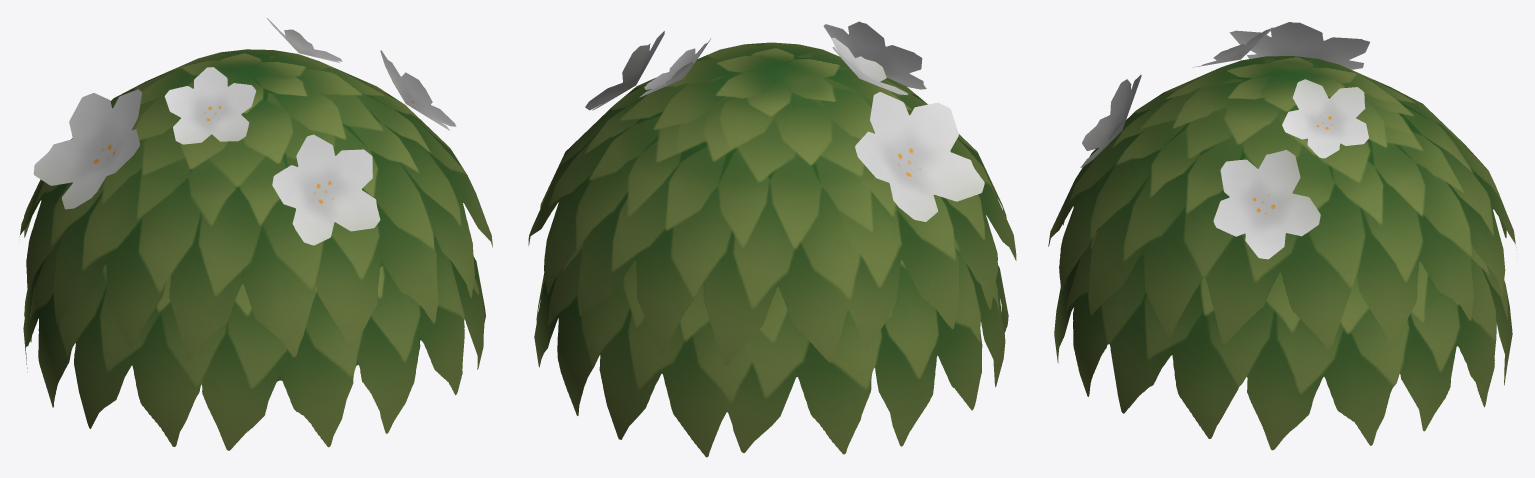
File: BushWhite.FBX
3 views of the same model, side by side, from view 1: azimuth 30°, elevation 25°; view 2: azimuth 150°, elevation 25°; view 3: azimuth 270°, elevation 25° (orthographic). The views are drawn at different scales.
Parts seen in each view (by area): view 1: SM_Bush; view 2: SM_Bush; view 3: SM_Bush.
Part boxes in pixels (x1=…): SM_Bush: x1=19, y1=18, x2=492, y2=450; SM_Bush: x1=528, y1=21, x2=1016, y2=457; SM_Bush: x1=1048, y1=22, x2=1516, y2=450.
Size of the model in its own units: 26.63 by 19.64 by 26.4.
